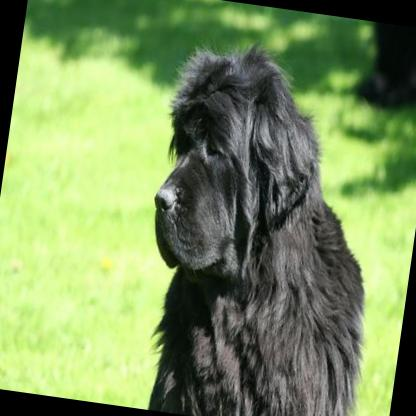Newfoundland: (115, 24, 404, 416)
